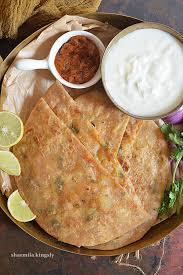paratha: (21, 99, 167, 246)
yogurt: (107, 28, 183, 108)
